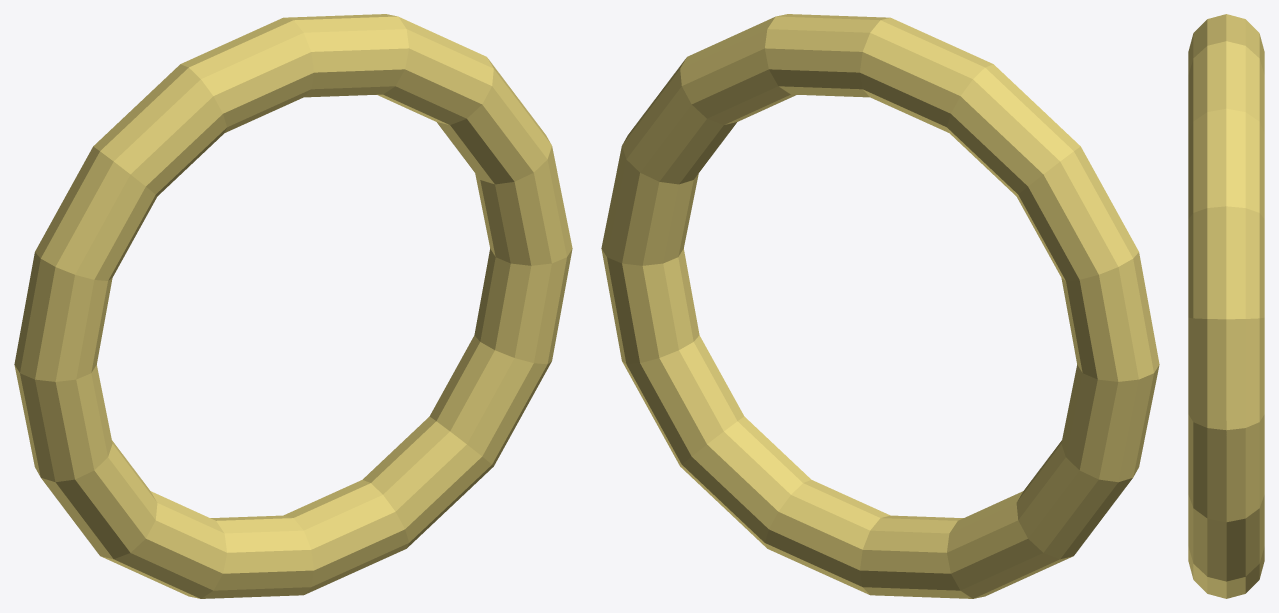
The model's file is ring.fbx.
3 views of the same model, side by side, from view 1: azimuth 30°, elevation 25°; view 2: azimuth 150°, elevation 25°; view 3: azimuth 270°, elevation 25° (orthographic). The views are drawn at different scales.
Visible parts, largest first — view 1: grapple target.001; view 2: grapple target.001; view 3: grapple target.001.
Part boxes in pixels (bbox=[...]): grapple target.001: bbox=[14, 14, 572, 598]; grapple target.001: bbox=[601, 14, 1159, 598]; grapple target.001: bbox=[1188, 14, 1264, 598].
Bounding box in the file's own units: 2.76 × 0.3594 × 2.76.
